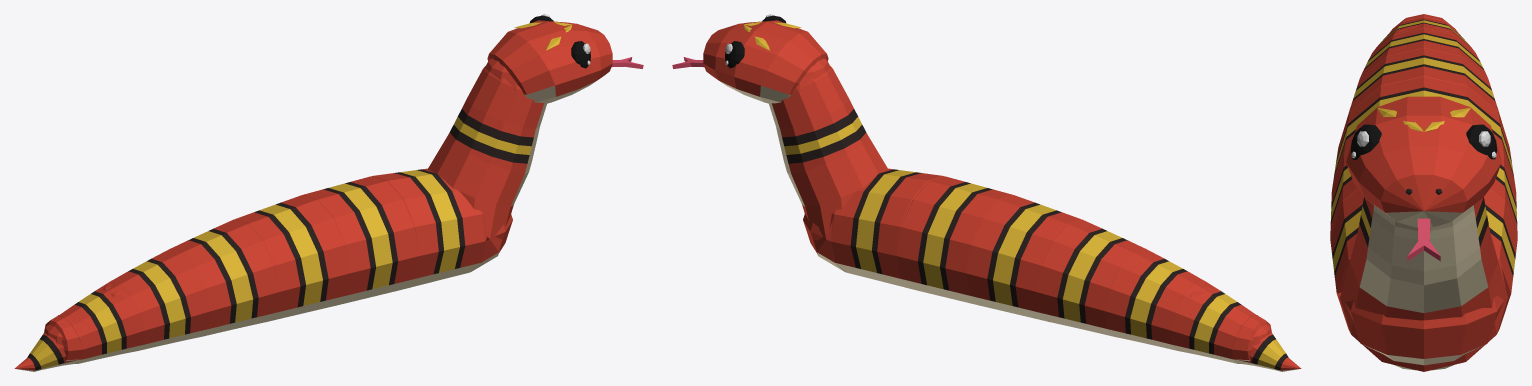
File: snake.glb
3 renders of one model, left to right at view 1: azimuth 30°, elevation 25°; view 2: azimuth 150°, elevation 25°; view 3: azimuth 270°, elevation 25°, orthographic. The views are drawn at different scales.
Parts seen in each view (by area): view 1: seg_1, seg_3, seg_4, head, seg_5, seg_2, seg_6, seg_7, seg_8; view 2: seg_1, seg_3, seg_4, head, seg_5, seg_2, seg_6, seg_7, seg_8; view 3: head, seg_1, seg_2, seg_5, seg_4, seg_6, seg_3, seg_7.
Part boxes in pixels (x1=…): seg_1: x1=427, y1=58, x2=546, y2=272; seg_3: x1=302, y1=176, x2=418, y2=305; seg_4: x1=234, y1=195, x2=349, y2=321; head: x1=487, y1=14, x2=643, y2=103; seg_5: x1=171, y1=219, x2=279, y2=336; seg_2: x1=372, y1=168, x2=512, y2=288; seg_6: x1=113, y1=248, x2=210, y2=351; seg_7: x1=44, y1=280, x2=144, y2=363; seg_8: x1=14, y1=315, x2=83, y2=371; seg_1: x1=769, y1=58, x2=888, y2=272; seg_3: x1=897, y1=176, x2=1013, y2=305; seg_4: x1=966, y1=195, x2=1081, y2=321; head: x1=672, y1=14, x2=828, y2=103; seg_5: x1=1036, y1=219, x2=1144, y2=336; seg_2: x1=803, y1=168, x2=943, y2=288; seg_6: x1=1105, y1=248, x2=1202, y2=351; seg_7: x1=1171, y1=280, x2=1271, y2=363; seg_8: x1=1232, y1=315, x2=1301, y2=371; head: x1=1346, y1=96, x2=1501, y2=261; seg_1: x1=1337, y1=197, x2=1511, y2=371; seg_2: x1=1330, y1=189, x2=1517, y2=370; seg_5: x1=1340, y1=48, x2=1507, y2=140; seg_4: x1=1332, y1=76, x2=1515, y2=189; seg_6: x1=1359, y1=28, x2=1488, y2=78; seg_3: x1=1330, y1=149, x2=1517, y2=237; seg_7: x1=1372, y1=14, x2=1475, y2=52.
Size of the model in its own units: 3.28 by 1.09 by 0.58.
